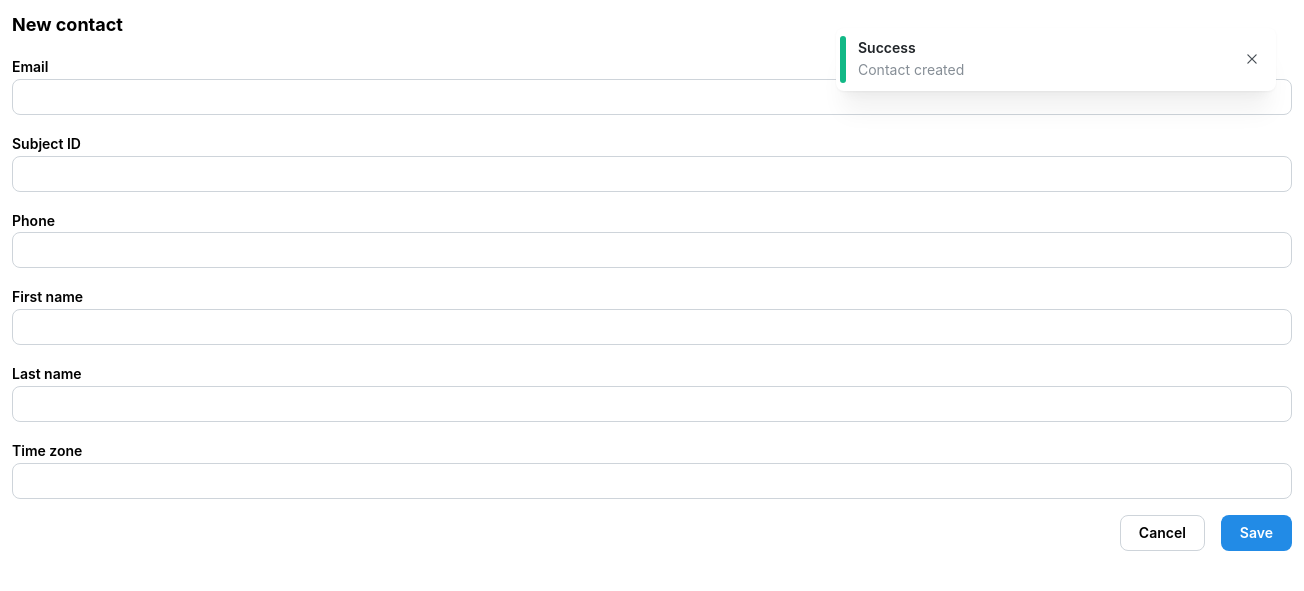
Test: a malformed email is rejected before anything is sent
In the field labelled "Email": [652, 97] box [12,79,1292,115], type "not-an-email"
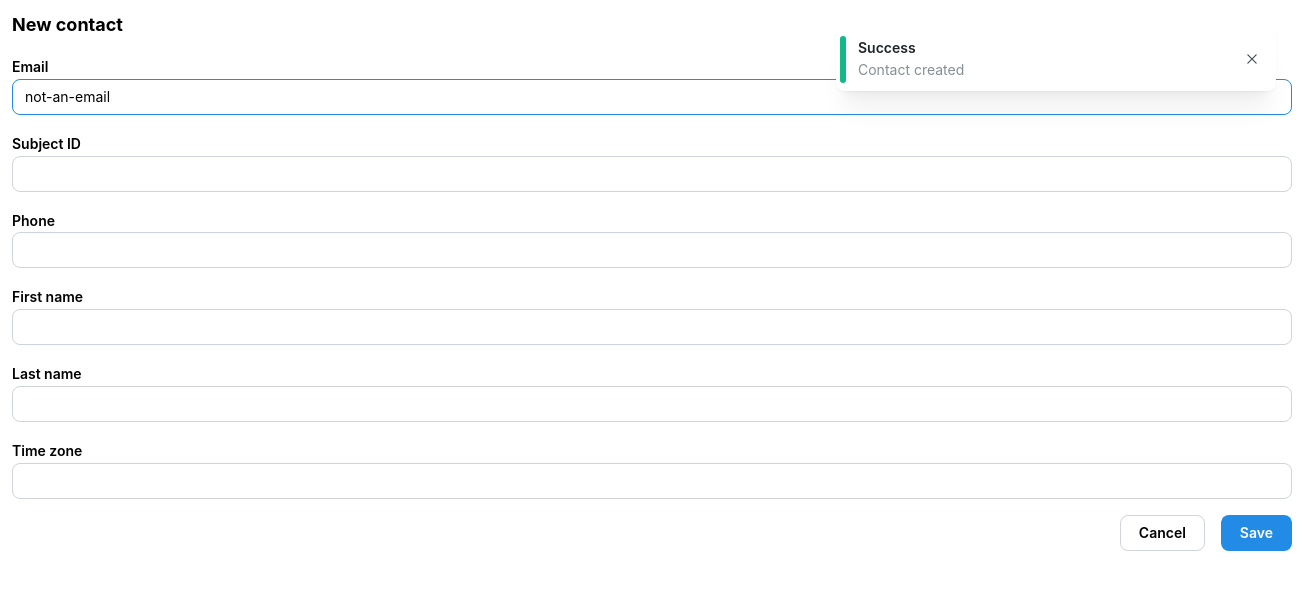
Click the button "Save": [1256, 533] box [1221,515,1292,551]
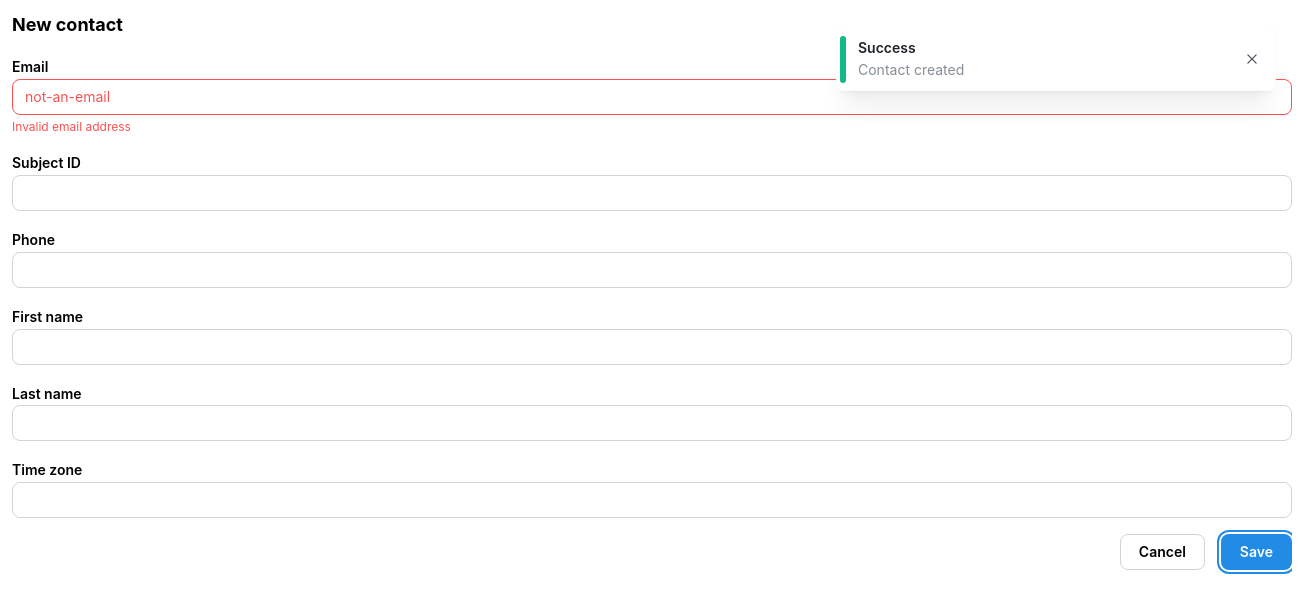
Result: the text "Invalid email address" is shown at [12,119,131,134]
